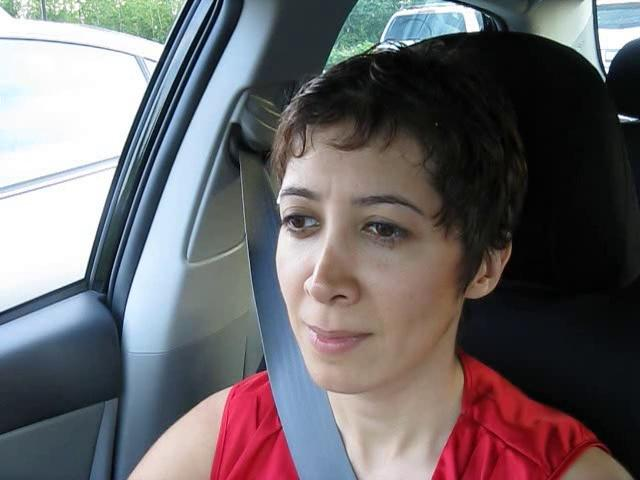no_yawn: (284, 311, 391, 363)
open_eyeL: (271, 203, 335, 247)
open_eyeR: (344, 206, 428, 255)
